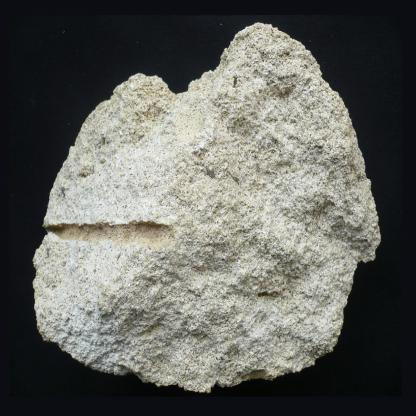Sedimentary_Chalk: (29, 13, 380, 392)
